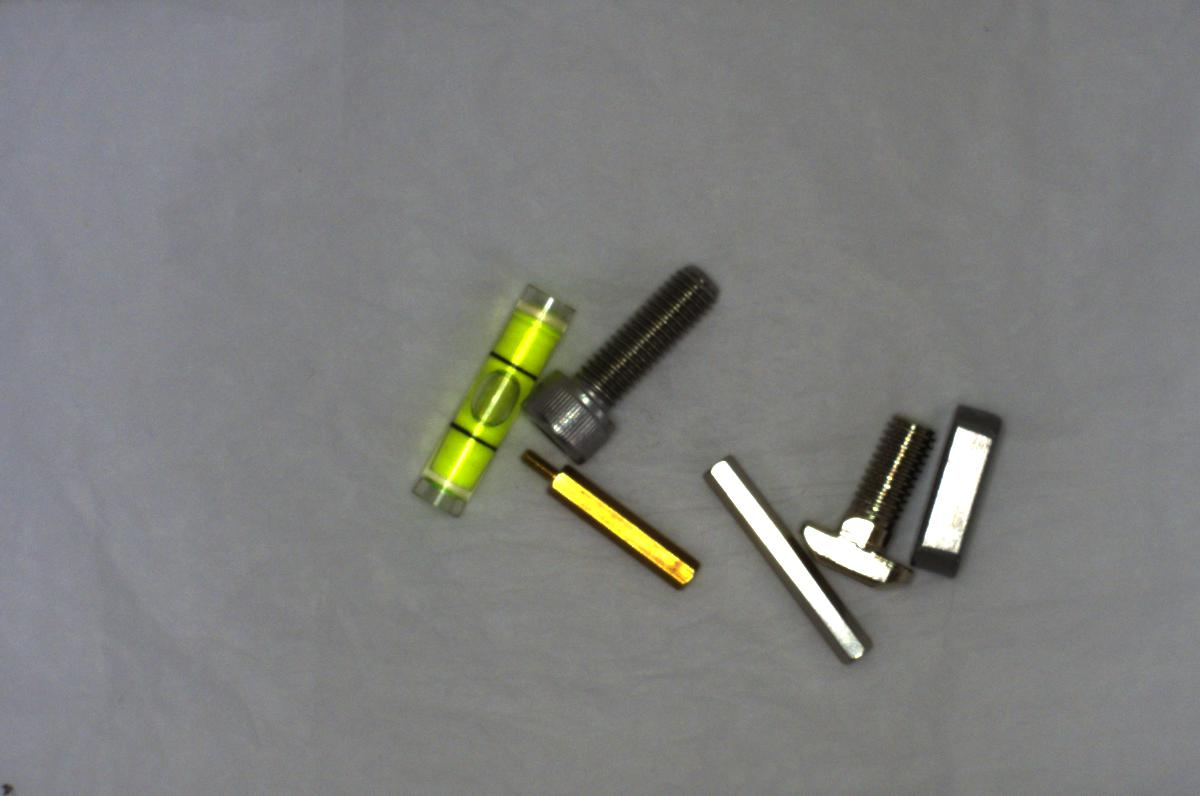Double hexagonal column: (697, 449, 883, 668)
Hexagon pillar: (520, 442, 706, 592)
Hexagon screw: (516, 260, 725, 467)
Horizontal bubble: (398, 268, 570, 521)
Keybar: (907, 395, 1010, 585)
T-shaped screw: (792, 401, 939, 595)
